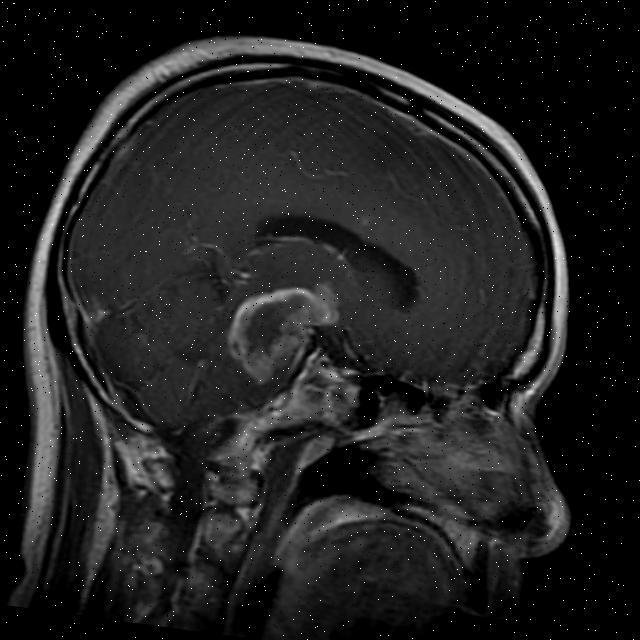Glioma: (222, 265, 345, 393)
